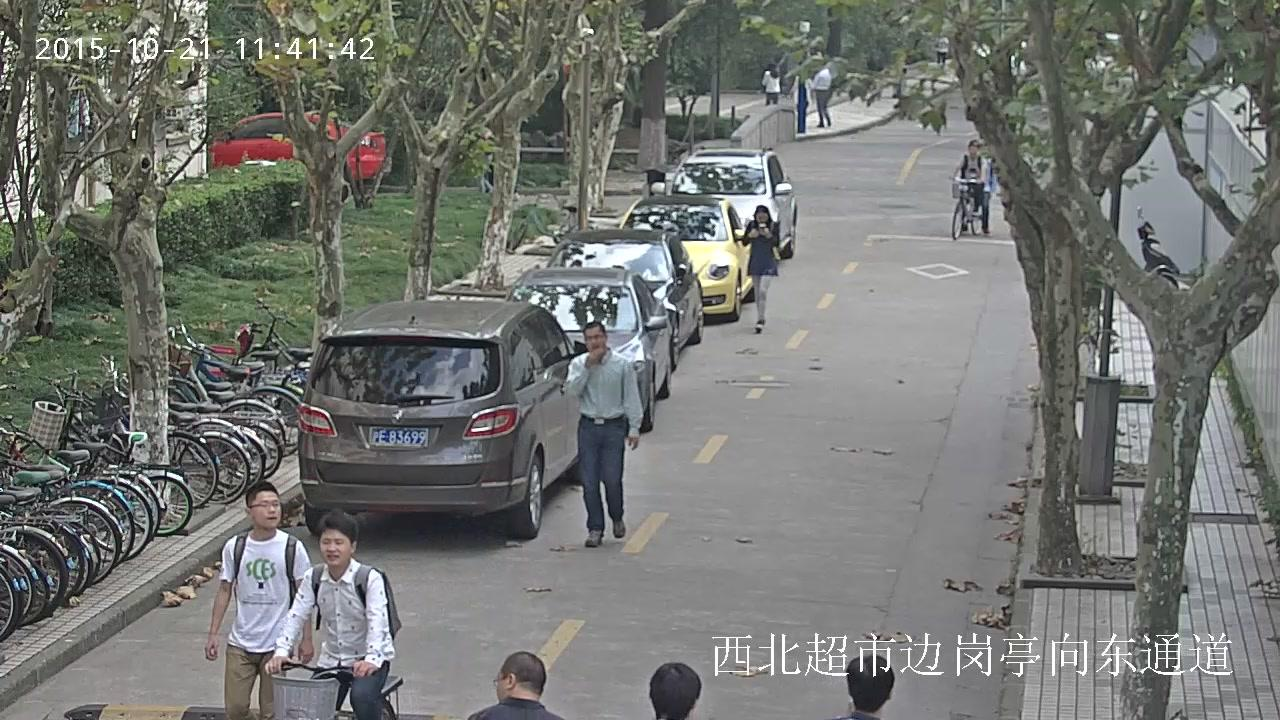person: (262, 505, 401, 719), (263, 507, 401, 720), (204, 480, 315, 720), (560, 321, 644, 547), (465, 648, 566, 720), (742, 203, 781, 335), (951, 140, 987, 239), (953, 140, 988, 216), (969, 139, 992, 239), (788, 70, 812, 134), (810, 67, 833, 127), (760, 63, 779, 104), (934, 31, 950, 69)
